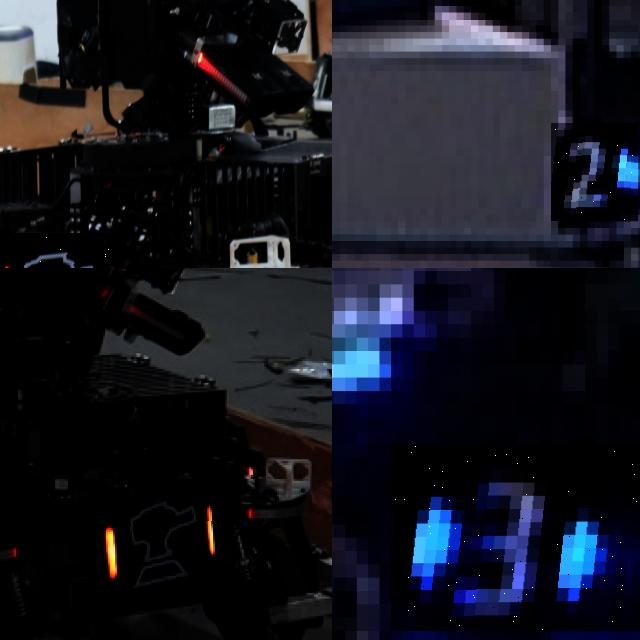B2: (551, 124, 638, 222)
B3: (390, 444, 640, 630)
Rs: (98, 498, 224, 600), (0, 233, 120, 268)
